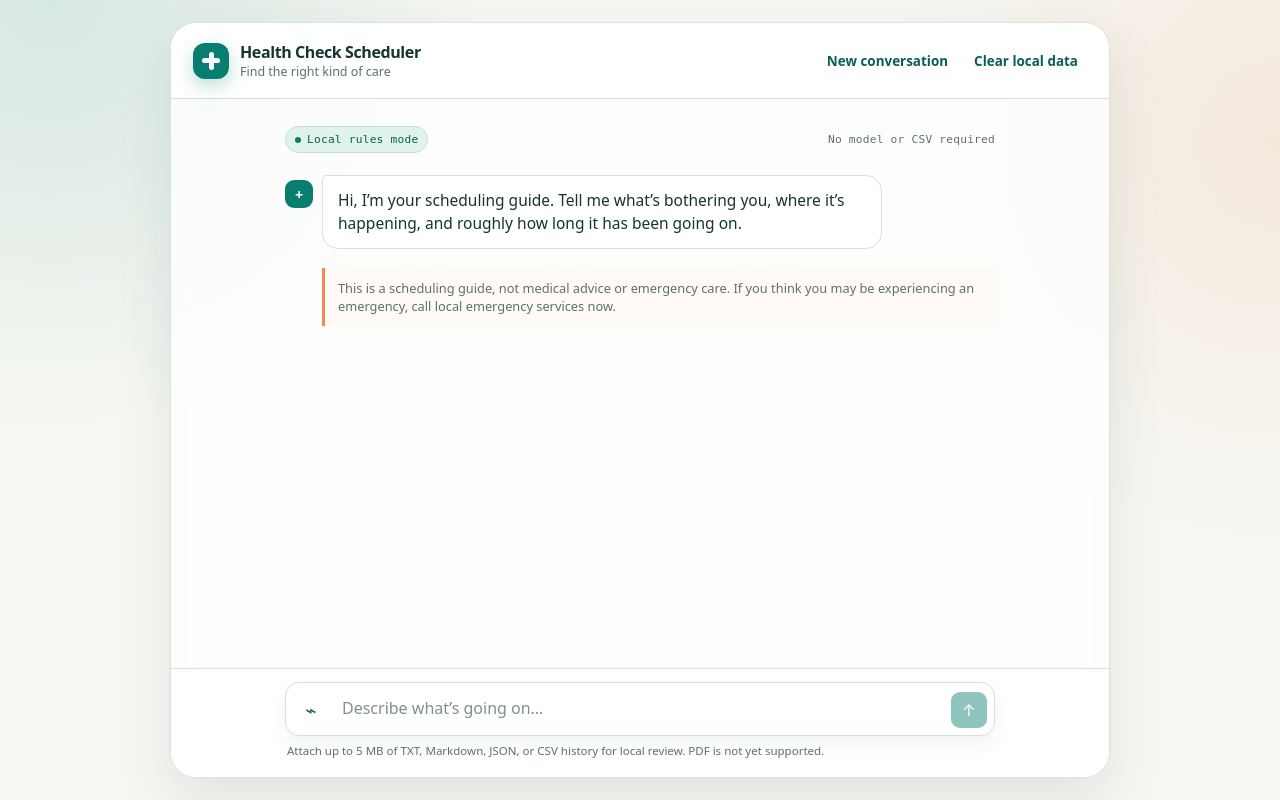
Test: chat scheduler prototype › surfaces provider failures when AI is required
The width and height of the screenshot is (1280, 800).
Step 1. Type "I have had an itchy rash for three days" into the text box named "Describe your concern" → (640, 709), box [337,690,943,728]
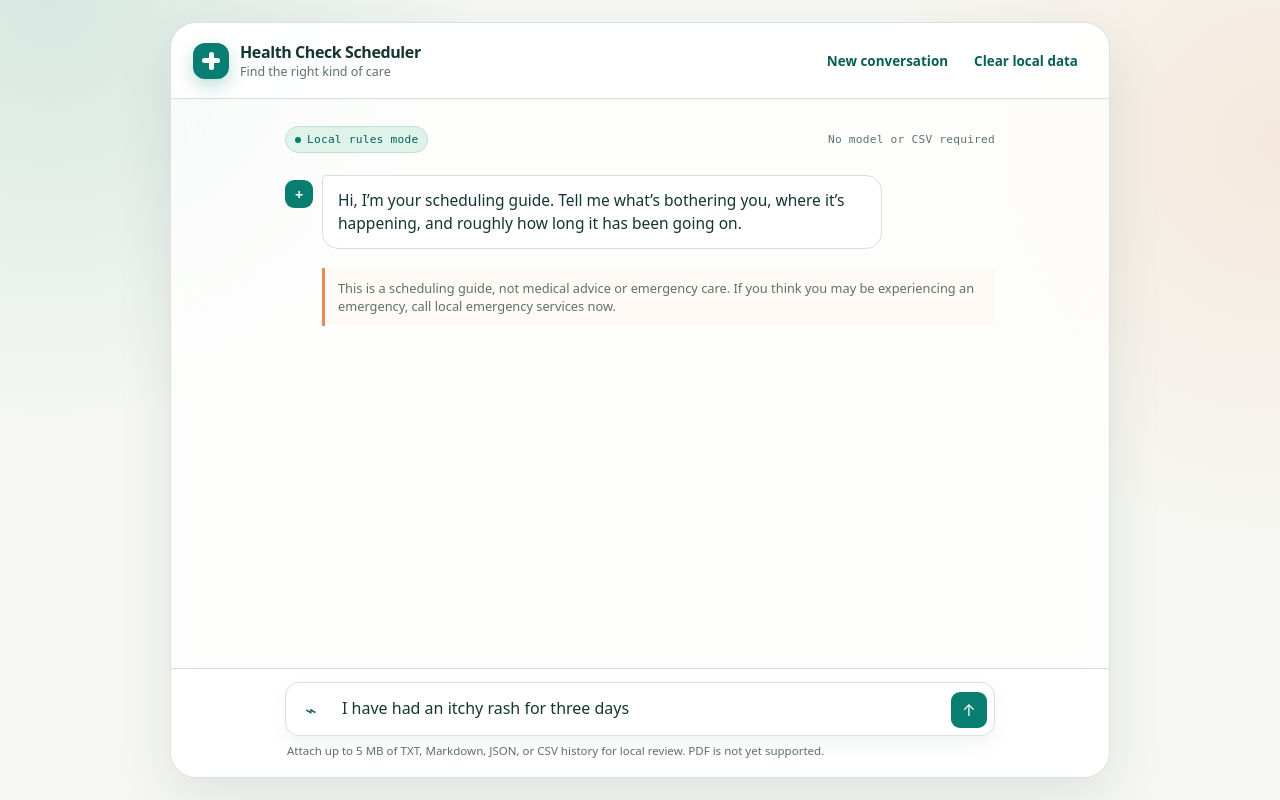
Step 2. Submit the form named "Describe your concern", box [285,682,995,758]
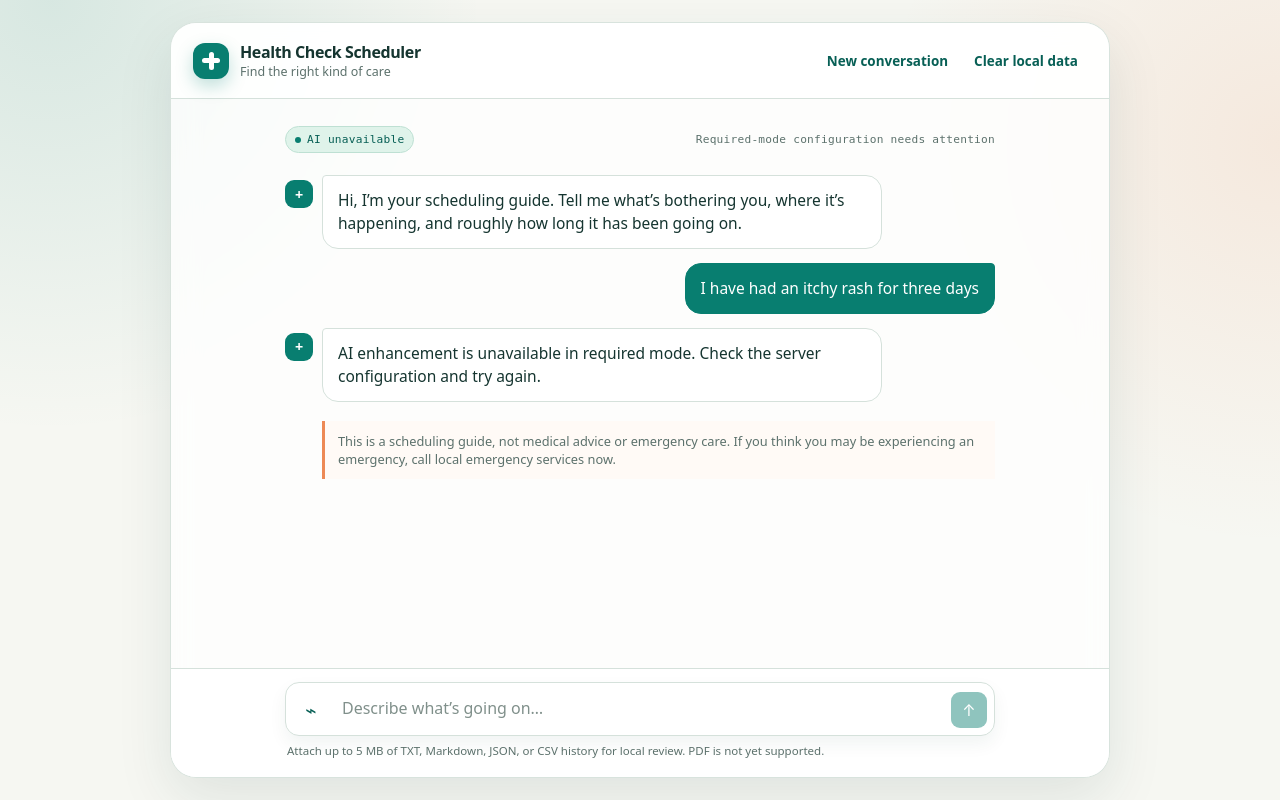
Check: the text "AI unavailable" is shown, box [285,126,414,153]
